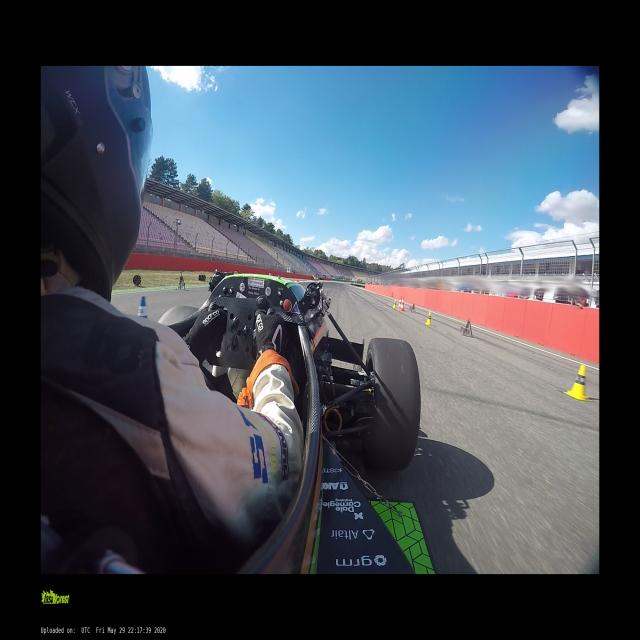blue_cone: (138, 296, 147, 318)
large_orange_cone: (399, 296, 405, 312), (398, 295, 402, 310)
yellow_cone: (566, 364, 590, 400), (425, 312, 432, 324), (393, 300, 396, 307)
